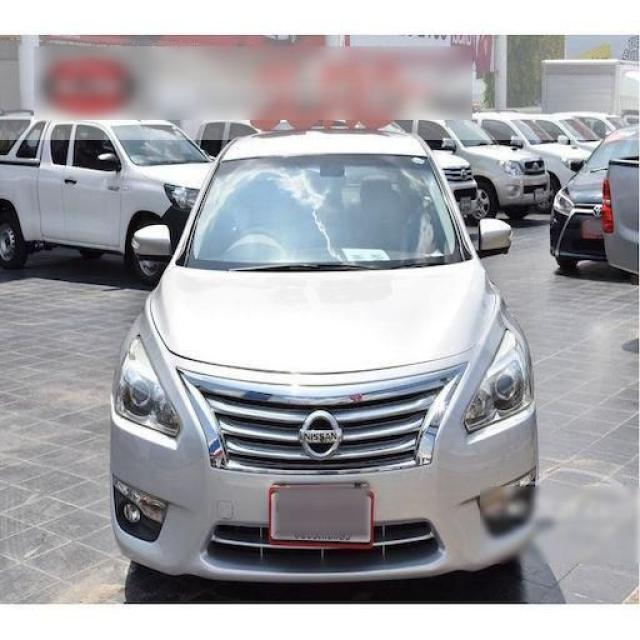front_bumper: (110, 328, 540, 583)
front_glass: (175, 154, 474, 272)
front_left_light: (463, 331, 534, 432)
front_right_light: (116, 337, 180, 437)
hood: (150, 257, 494, 374)
left_mirror: (475, 218, 515, 260)
right_mirror: (132, 225, 173, 262)
